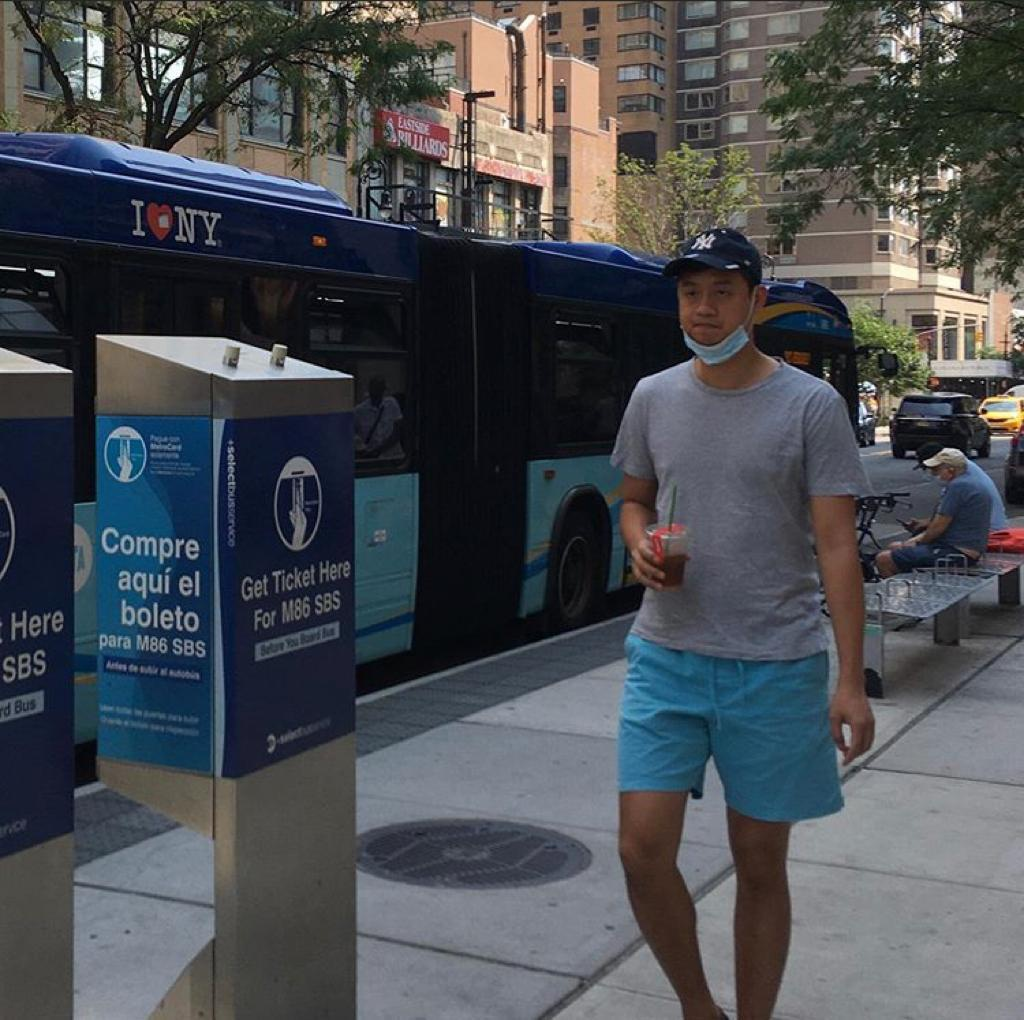mouth: (690, 322, 721, 334)
nose: (693, 305, 716, 318)
